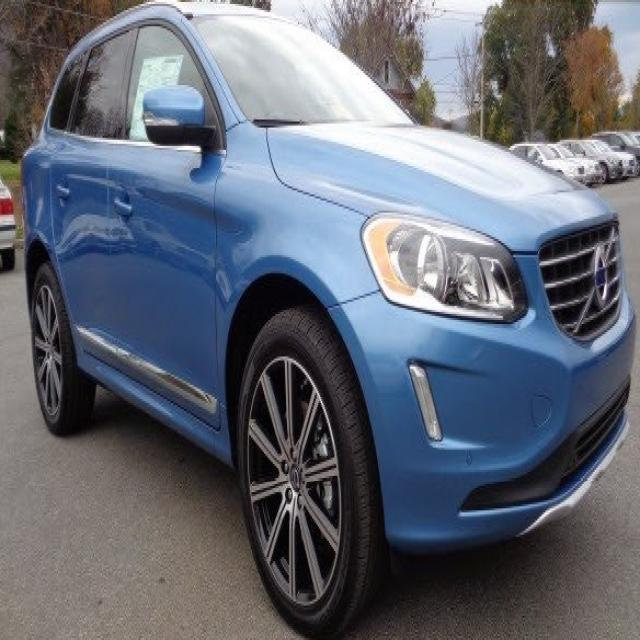blue: (22, 21, 640, 545)
